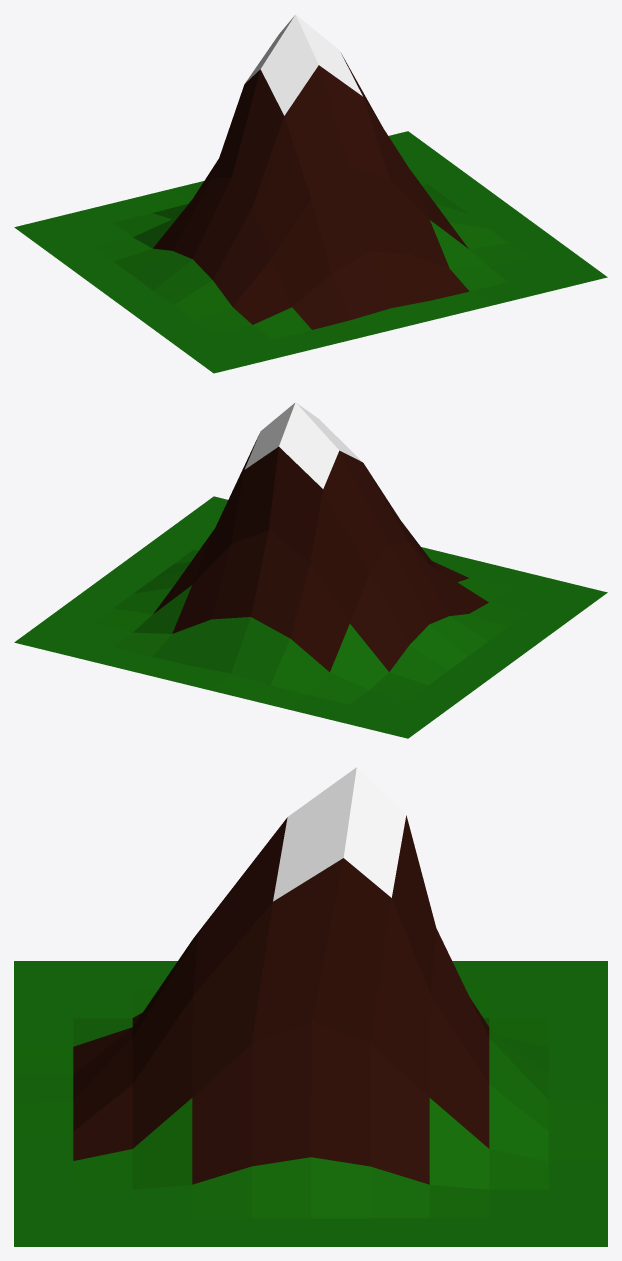
Rendered from Lanscape01.FBX.
The picture shows the model from 3 angles, top to bottom: view 1: azimuth 30°, elevation 25°; view 2: azimuth 150°, elevation 25°; view 3: azimuth 270°, elevation 25°; orthographic projection. The views are drawn at different scales.
Visible parts, largest first — view 1: Plane001; view 2: Plane001; view 3: Plane001.
Part boxes in pixels (x1,y1,x2,y2): Plane001: (14,14,607,373); Plane001: (14,402,607,738); Plane001: (14,767,607,1246).
Bounding box in the file's own units: 147 × 80.96 × 129.
